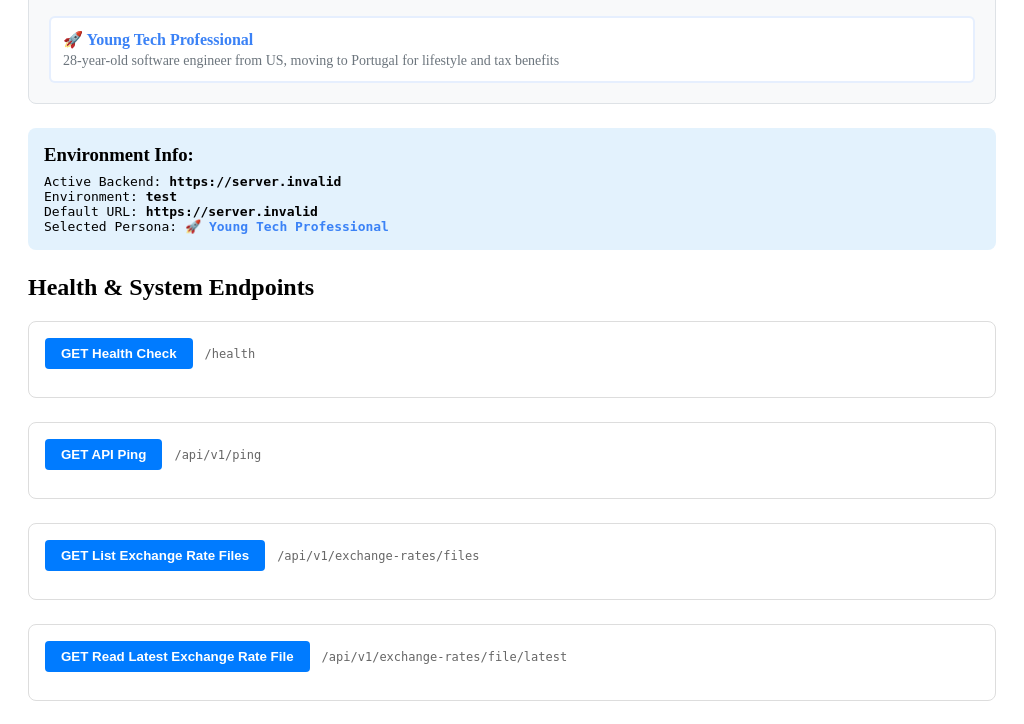
Backend Tester › handles API errors gracefully
(page scrolled)
Click the button "GET Health Check": (119, 354) [45, 338, 192, 369]
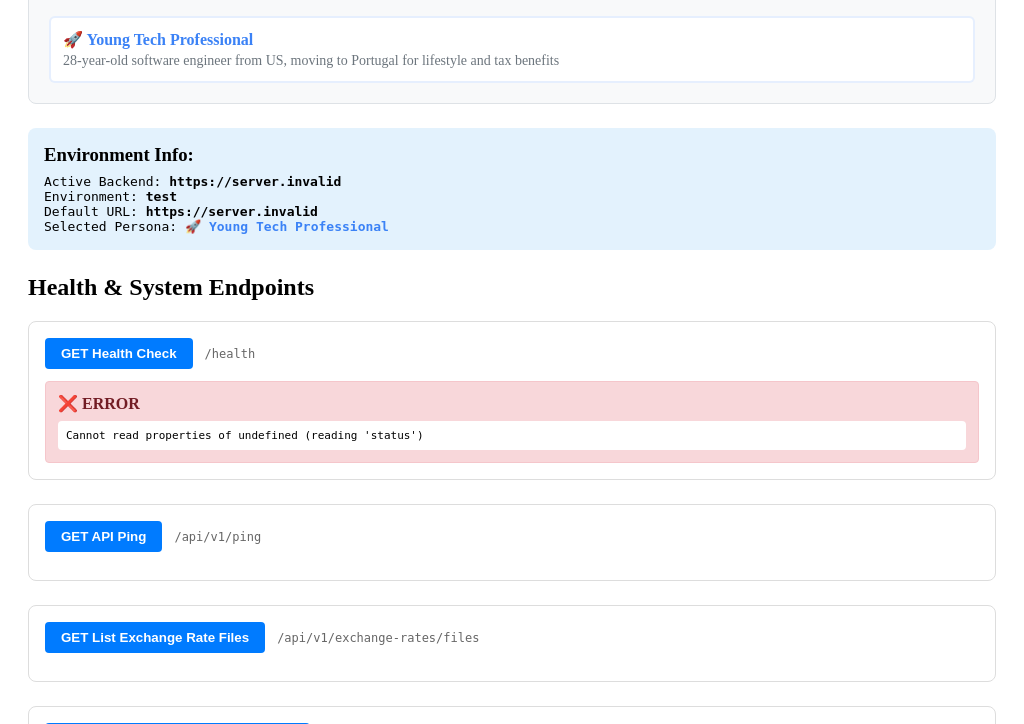
Expected: the text "❌ ERROR" is shown, [58, 395, 140, 412]
